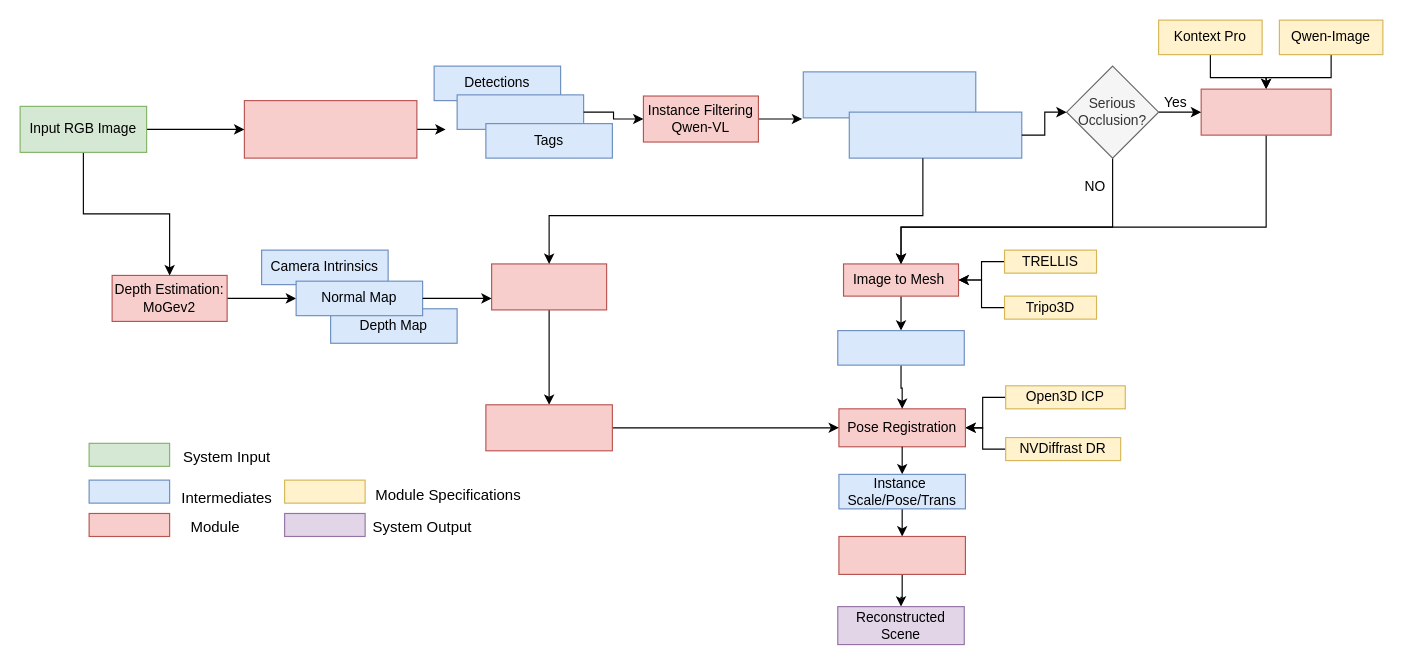
Image size: 1403x665. Some labels were removed from this diagram. Here are the shapes that lost their labels. From the top down, the box of each, then its label:
(456, 94, 584, 129): Masks
(802, 71, 976, 118): Instance1 (Box/Mask/Occlusion)
(1200, 88, 1331, 135): Inpainting as Generation
(243, 99, 417, 158): Object Detection and Segmentation RAM-Grounded-SAM
(848, 111, 1022, 158): InstanceK (Box/Mask/Occlusion)
(490, 263, 607, 310): Point Cloud Extraction
(837, 329, 964, 365): Instance Meshes
(485, 404, 612, 451): Camera & Instance Point Clouds
(838, 535, 965, 574): Scene Graph based SDF Optimization
